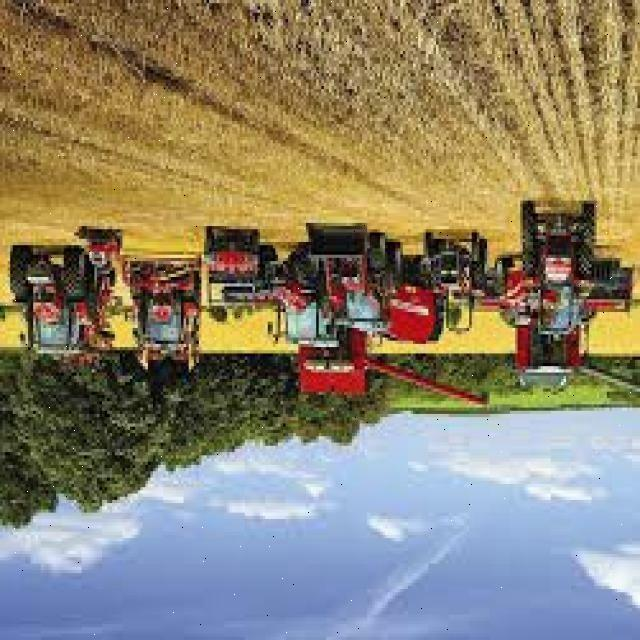Tratores - v5 YOLO V8L 2024-11-13: (302, 224, 404, 330), (520, 196, 596, 333), (120, 258, 198, 374), (258, 246, 344, 350), (8, 248, 90, 356), (421, 230, 488, 330)
